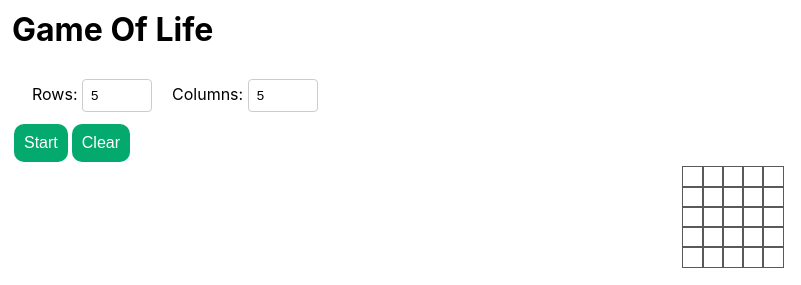
Scenario: GameOfLife › starts and stops the simulation on button click
Click the button "Start": {"x": 41, "y": 143} x1=14 y1=124 x2=68 y2=162
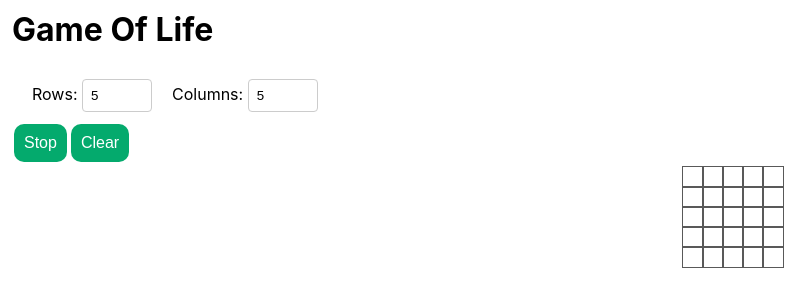
Expected: the button "Start" reads "Stop"
Click the button "Start": {"x": 40, "y": 143} x1=14 y1=124 x2=67 y2=162
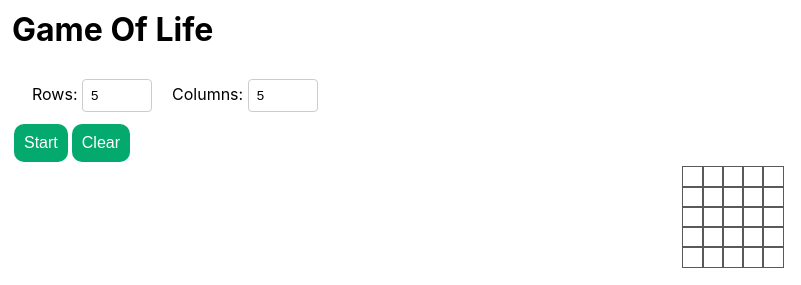
Expected: the button "Start" is shown, x1=14 y1=124 x2=68 y2=162
